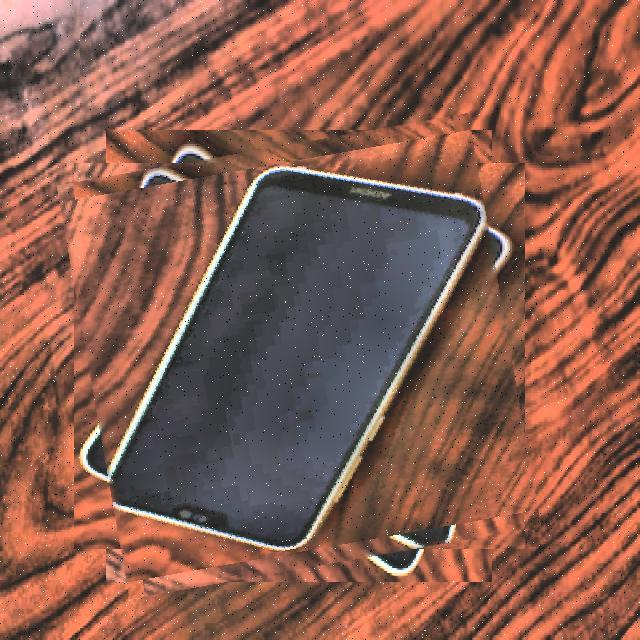Phone: (73, 130, 524, 582)
